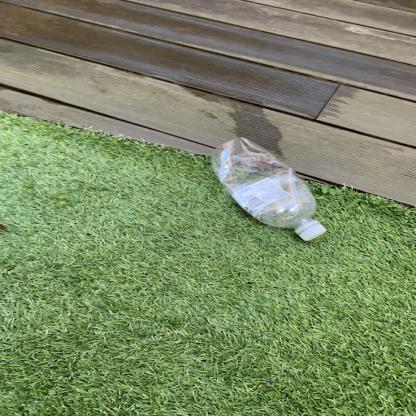trash: (211, 138, 329, 242)
